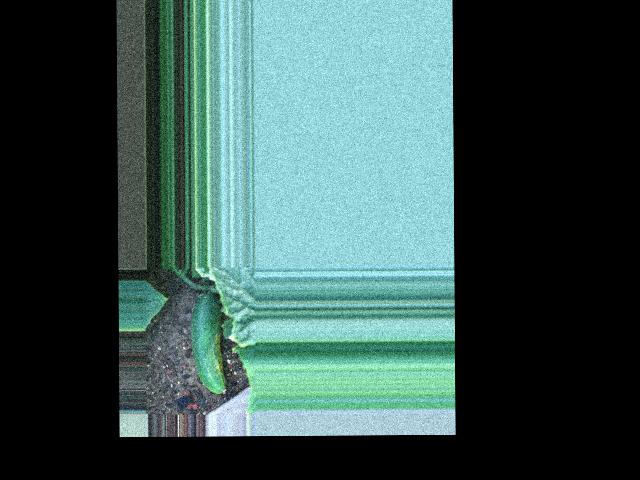cucumber: (191, 293, 226, 394)
